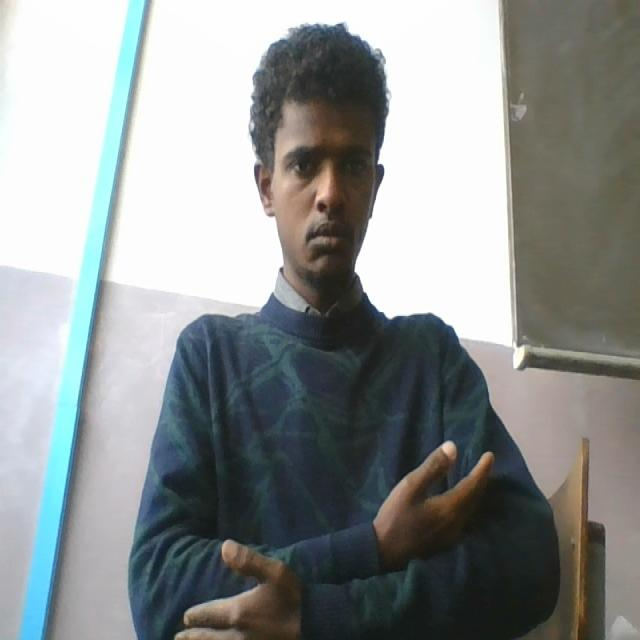lij: (159, 436, 517, 640)
